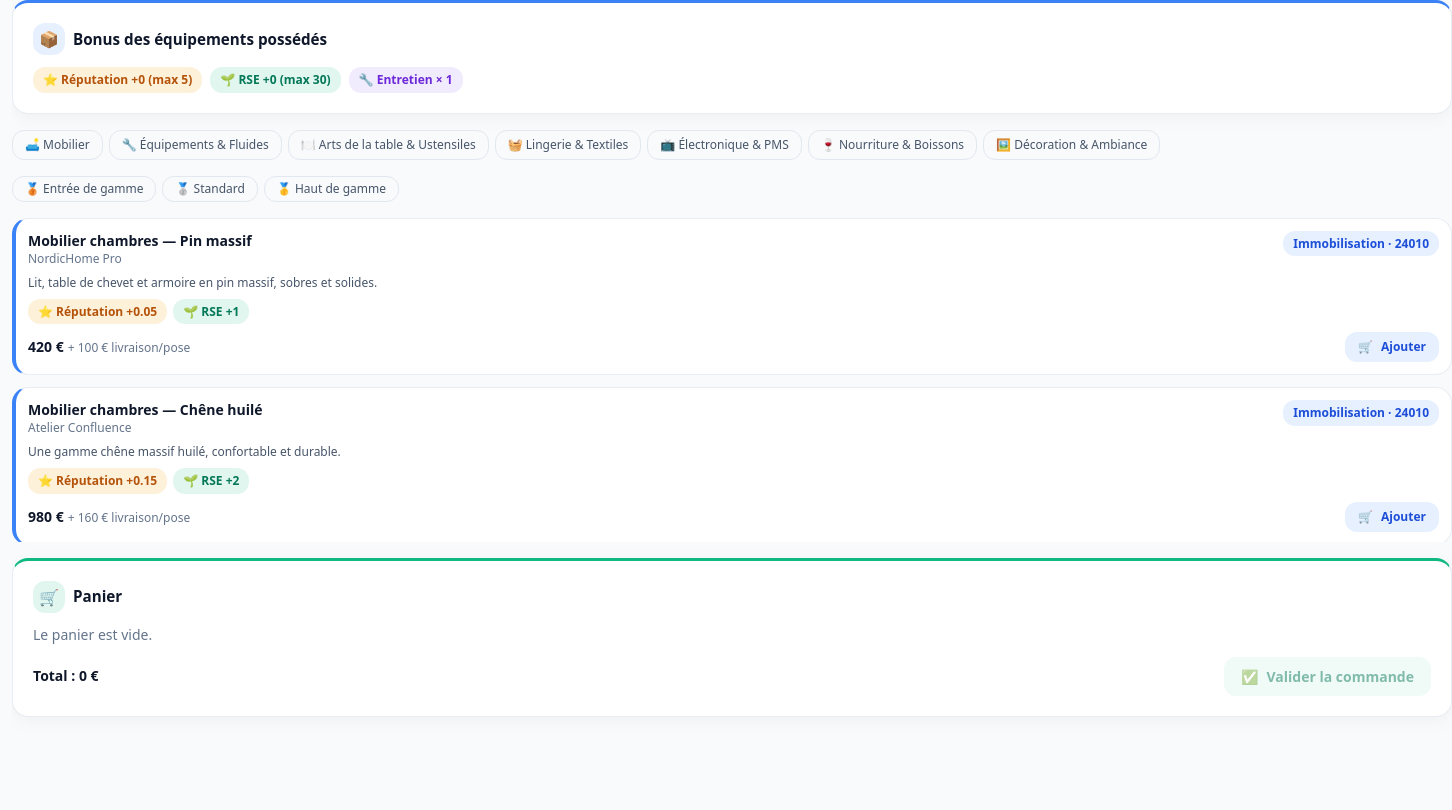
SuppliersPanel / browsing the catalogue › narrows to one category when its tab is clicked, and shows everything again on a second click
What coordinates should you click on to do the following:
click the tab with test id "suppliers-tab-linens"
I would click on:
 (568, 145)
Its box is [495, 130, 641, 160].
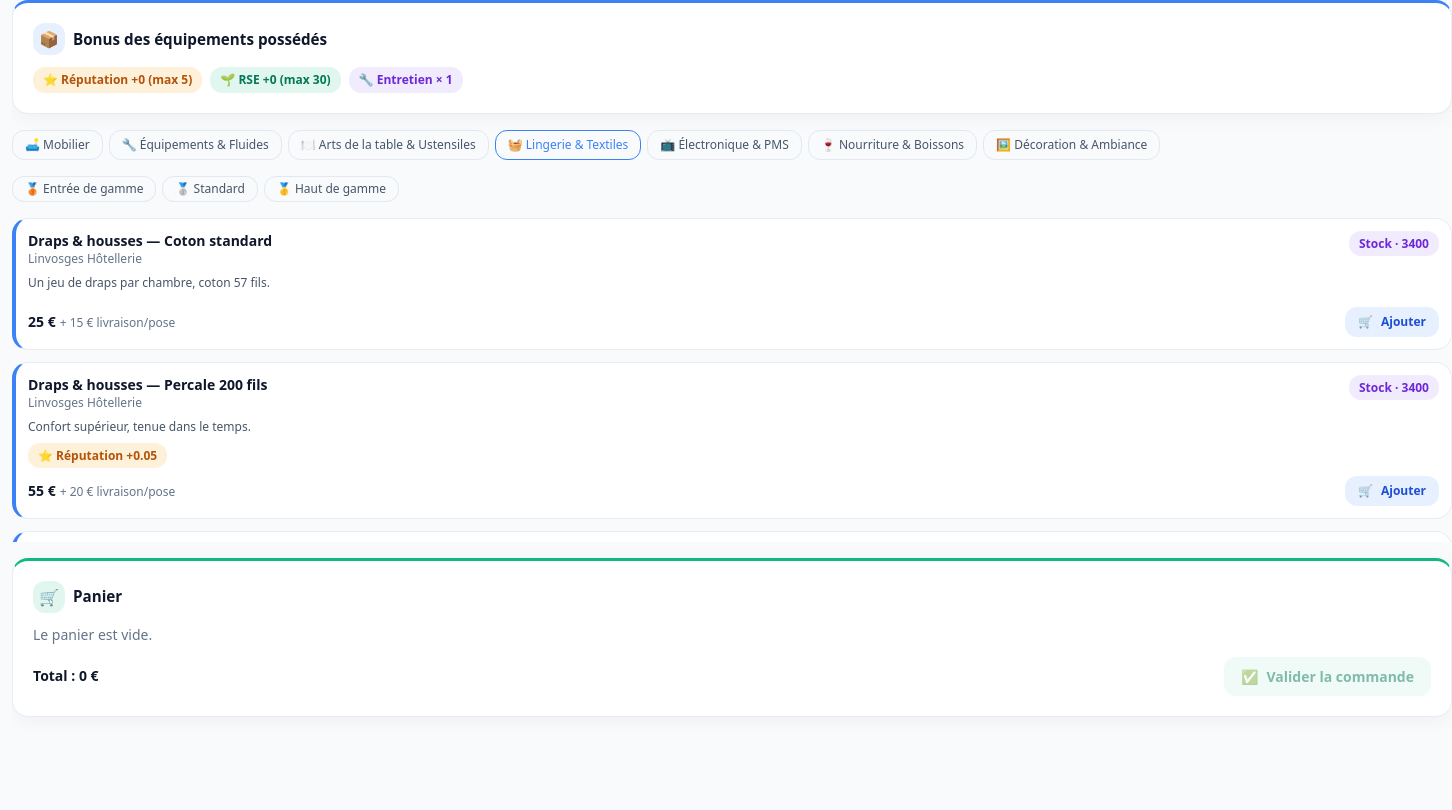
Now the list item with test id "supplier-item-furniture-rooms-entry" is gone
Now the list item with test id "supplier-item-linens-sheets-entry" is shown, box [12, 218, 1451, 350]
What coordinates should you click on to do the following:
click the tab with test id "suppliers-tab-linens"
I would click on:
 (568, 145)
Its box is [495, 130, 641, 160].
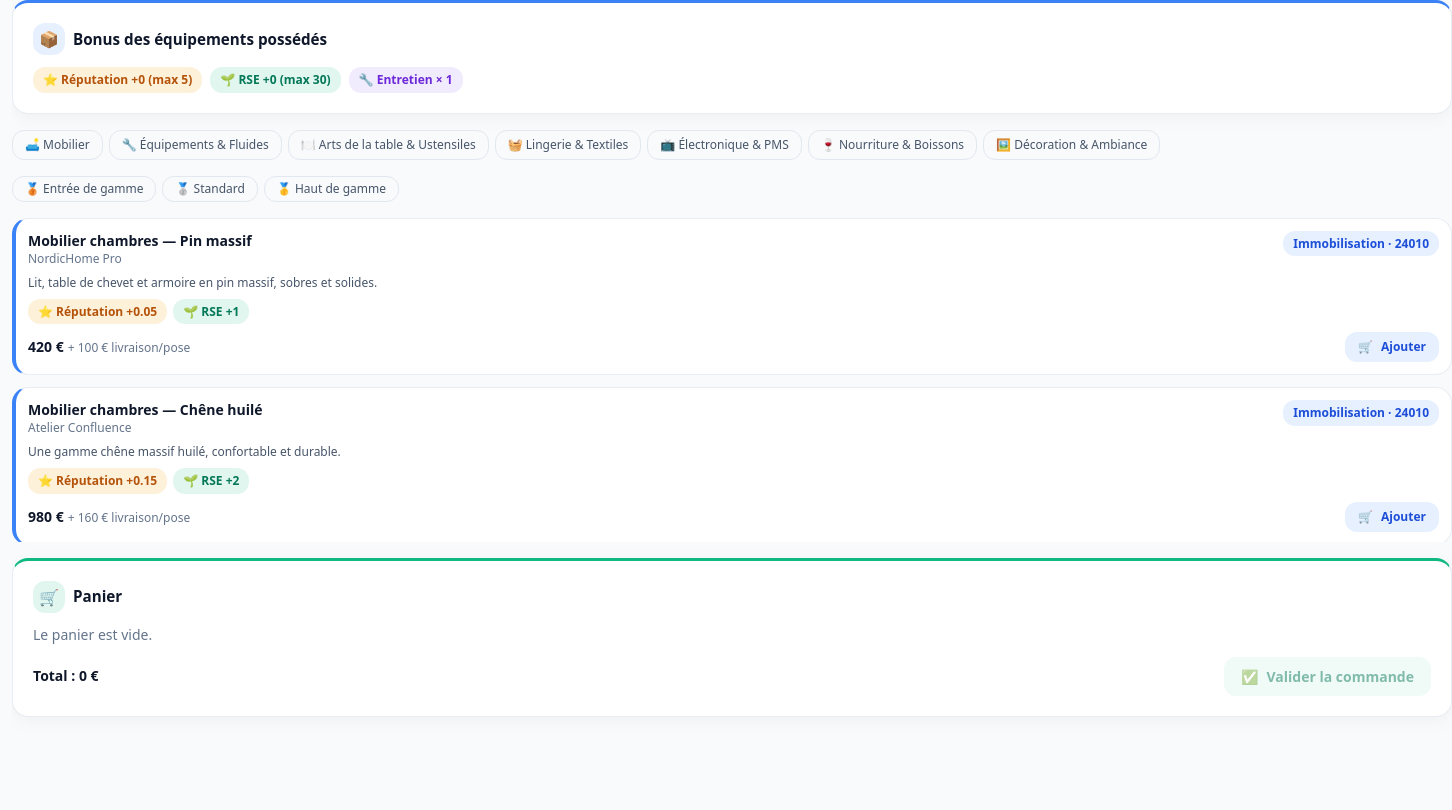
Now the list item with test id "supplier-item-furniture-rooms-entry" is shown, box [12, 218, 1451, 375]
